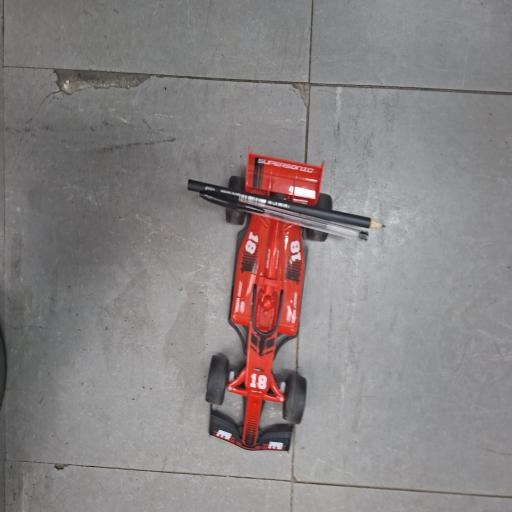carro: (175, 154, 392, 457)
